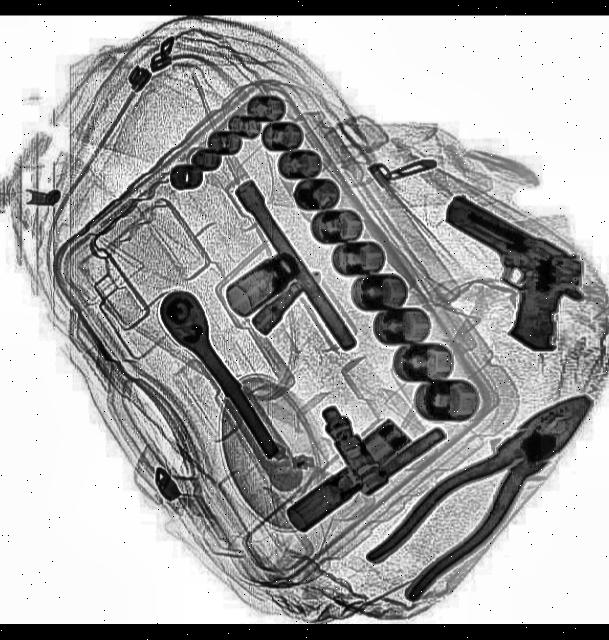Gun: (411, 194, 600, 363)
Pliers: (366, 367, 606, 612)
